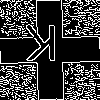K: (25, 25, 59, 71)
